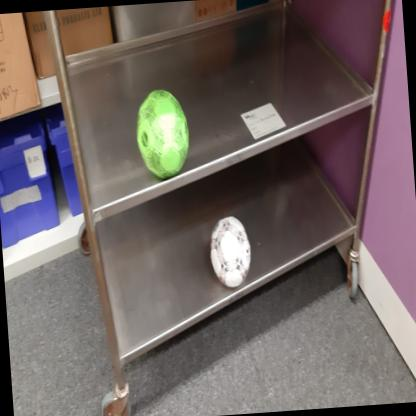ball: (135, 87, 192, 182), (207, 216, 254, 290)
